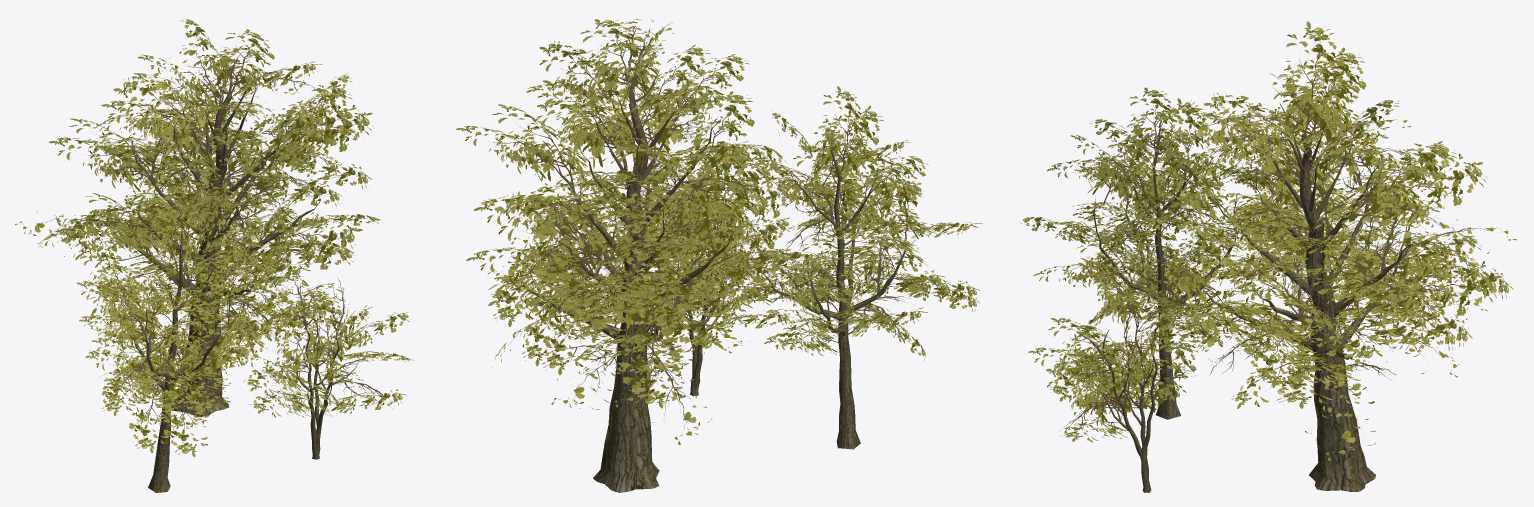
The model's file is oak_trees.glb.
The picture shows the model from 3 angles, left to right: view 1: azimuth 30°, elevation 25°; view 2: azimuth 150°, elevation 25°; view 3: azimuth 270°, elevation 25°; orthographic projection. The views are drawn at different scales.
Parts seen in each view (by area): view 1: treelarge, Treemedium, leafplanes_4_23, leafplanes_4_7, leafplanes_4_39, leafplanes_10_3, leafplanes_4_13_2, leafplanes_3, Treesmall, leafplanes_4_13_3_40_2, leafplanes_4_55, leafplanes_4_13_3_67 (+75 smaller); view 2: treelarge, Treemedium, leafplanes_10_195, leafplanes_10_177, leafplanes_4_13, leafplanes_4_38, leafplanes_4_6, leafplanes_10_108, leafplanes_10_117, leafplanes_4_55, leafplanes_10_9, leafplanes_4_58 (+69 smaller); view 3: treelarge, leafplanes_4_13_3, Treemedium, Treesmall, leafplanes_4_60, leafplanes_4_13_1, leafplanes_4_52, leafplanes_10_93_1, leafplanes_4_41, leafplanes_10_78, leafplanes_10_114, leafplanes_4_13_3_13 (+76 smaller).
Part boxes in pixels (x1,y1,x2,y2): treelarge: (112,72,320,416); Treemedium: (129,225,233,492); leafplanes_4_23: (113,77,214,157); leafplanes_4_7: (260,212,362,266); leafplanes_4_39: (222,102,326,168); leafplanes_10_3: (152,150,221,217); leafplanes_4_13_2: (209,29,274,93); leafplanes_3: (66,195,168,249); Treesmall: (295,295,358,459); leafplanes_4_13_3_40_2: (156,384,212,457); leafplanes_4_55: (253,106,356,170); leafplanes_4_13_3_67: (128,376,181,453); treelarge: (517,80,732,492); Treemedium: (748,130,915,449); leafplanes_10_195: (616,325,692,408); leafplanes_10_177: (493,243,578,326); leafplanes_4_13: (580,19,661,99); leafplanes_4_38: (631,271,731,353); leafplanes_4_6: (494,191,611,287); leafplanes_10_108: (598,164,675,236); leafplanes_10_117: (522,277,605,366); leafplanes_4_55: (538,78,635,171); leafplanes_10_9: (663,148,750,232); leafplanes_4_58: (492,104,587,189); treelarge: (1203,103,1414,491); leafplanes_4_13_3: (1273,21,1348,134); Treemedium: (1088,134,1235,419); Treesmall: (1099,312,1162,492); leafplanes_4_60: (1343,144,1454,211); leafplanes_4_13_1: (1288,47,1366,139); leafplanes_4_52: (1365,153,1487,224); leafplanes_10_93_1: (1203,92,1304,165); leafplanes_4_41: (1390,261,1501,323); leafplanes_10_78: (1231,232,1310,300); leafplanes_10_114: (1196,207,1280,277); leafplanes_4_13_3_13: (1155,98,1213,191).
Bounding box in the file's own units: 1.97 × 2.04 × 2.08.
Materials: 2 (2 with a texture image).
